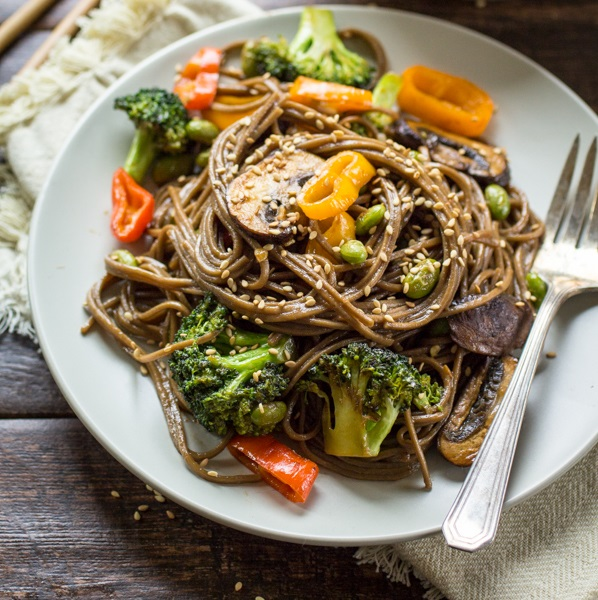Soba: (90, 73, 558, 490)
